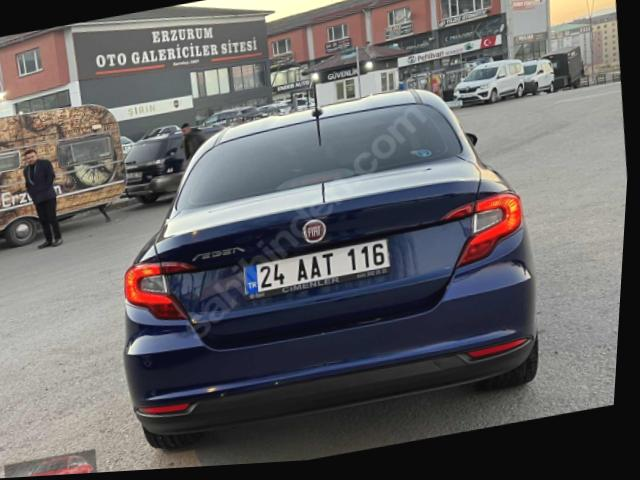plaka: (243, 239, 389, 299)
